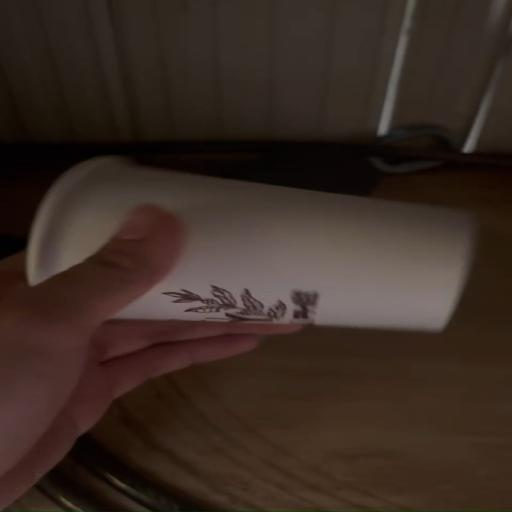Ly_giay: (26, 157, 475, 331)
